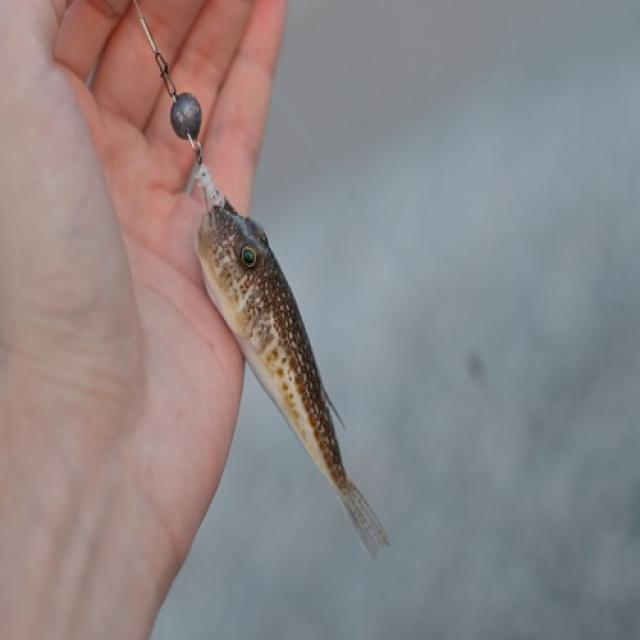Balik: (196, 199, 387, 558)
